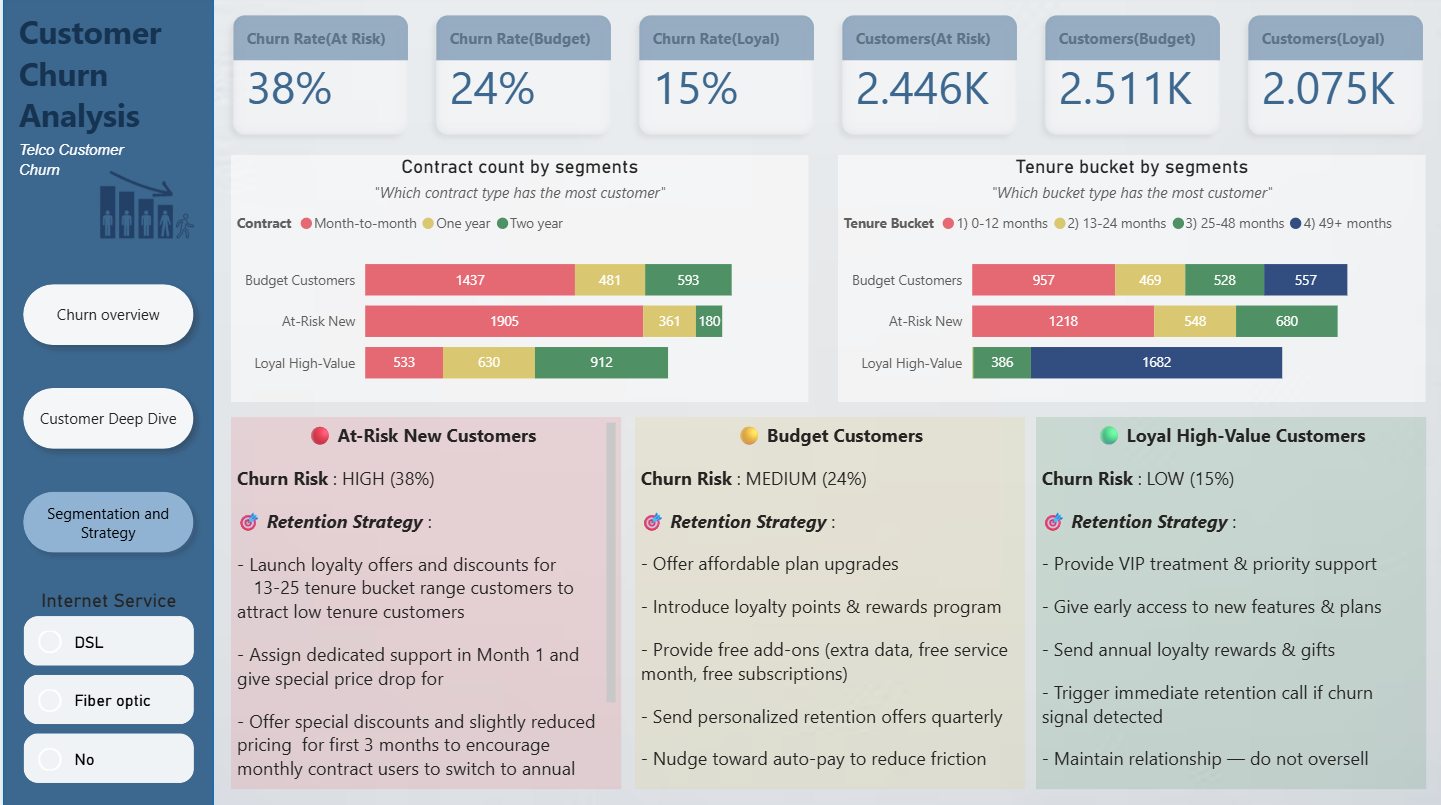

The page's visual inventory and layout, read from the dashboard file:
{"tool":"powerbi","page":{"name":"Segmentation and Strategy","canvas":[1280,720],"ordinal":2},"visuals":[{"type":"cardVisual","title":"Churn Rate (%)  by Payment type","fields":{"Data":["telco_churn_final.Churn Rate(At Risk)","telco_churn_final.Churn Rate(Budget)","telco_churn_final.Churn Rate(Loyal)","telco_churn_final.Customers(At Risk)","telco_churn_final.Customers(Budget)","telco_churn_final.Customers(Loyal)"]},"box":[186.7,0,1092.9,140.8],"z":0},{"type":"shape","box":[0,0,187,720.1],"z":1000},{"type":"barChart","title":"Contract count by segments","fields":{"Y":["CountNonNull(telco_churn_final.CustomerID)"],"Series":["telco_churn_final.Contract"],"Category":["telco_churn_final.Segment"]},"box":[202,140.8,512.2,219.4],"z":2000},{"type":"barChart","title":"Tenure bucket by segments","fields":{"Y":["CountNonNull(telco_churn_final.CustomerID)"],"Category":["telco_churn_final.Segment"],"Series":["telco_churn_final.Tenure Bucket"]},"box":[740.8,140.8,521.4,219.4],"z":3000},{"type":"textbox","box":[202,373.5,346,329.6],"z":4000},{"type":"textbox","box":[560.2,373.5,345.9,329.6],"z":5000},{"type":"textbox","box":[916.3,373.5,345.9,329.6],"z":6000},{"type":"textbox","title":"Customer Churn Analysis","box":[9.3,12.8,169.6,120.8],"z":7000},{"type":"image","box":[48.8,105.7,158,155.6],"z":8000},{"type":"textbox","box":[9.3,122,109.2,61.6],"z":9000},{"type":"advancedSlicerVisual","fields":{"Values":["telco_churn_final.Internet Service"]},"box":[13.3,525.5,161.2,177.6],"z":10000},{"type":"pageNavigator","box":[9.3,246.2,169.6,256.7],"z":11000}]}

Visuals, with their boxes in screenshot pixels (x1, y1, x2, y2), scaled from the page's 1280x720 canvas onto the 1441x805 screenshot:
"Churn Rate (%)  by Payment type" cardVisual: {"x1": 210, "y1": 0, "x2": 1440, "y2": 157}
shape: {"x1": 0, "y1": 0, "x2": 211, "y2": 804}
"Contract count by segments" barChart: {"x1": 227, "y1": 157, "x2": 804, "y2": 403}
"Tenure bucket by segments" barChart: {"x1": 834, "y1": 157, "x2": 1421, "y2": 403}
textbox: {"x1": 227, "y1": 418, "x2": 617, "y2": 786}
textbox: {"x1": 631, "y1": 418, "x2": 1020, "y2": 786}
textbox: {"x1": 1032, "y1": 418, "x2": 1421, "y2": 786}
"Customer Churn Analysis" textbox: {"x1": 10, "y1": 14, "x2": 201, "y2": 149}
image: {"x1": 55, "y1": 118, "x2": 233, "y2": 292}
textbox: {"x1": 10, "y1": 136, "x2": 133, "y2": 205}
advancedSlicerVisual - telco_churn_final.Internet Service: {"x1": 15, "y1": 588, "x2": 196, "y2": 786}
pageNavigator: {"x1": 10, "y1": 275, "x2": 201, "y2": 562}
